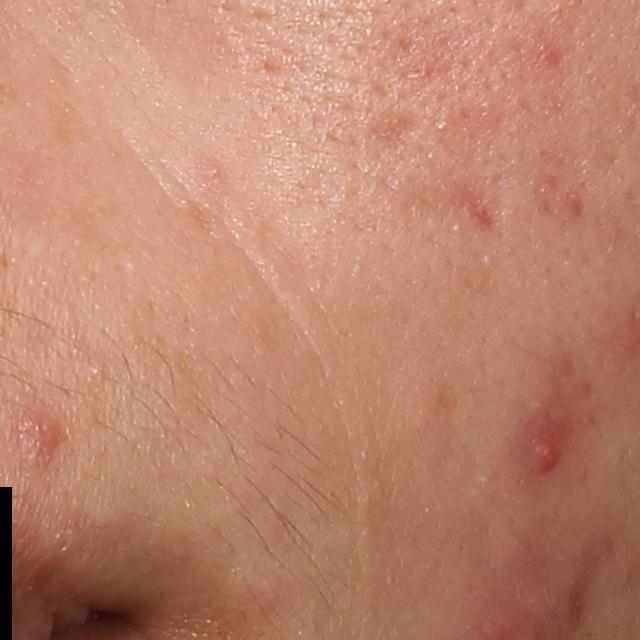atrophic_scar: (447, 175, 513, 237), (359, 108, 422, 150)
papule: (516, 402, 569, 491), (4, 406, 71, 472)
